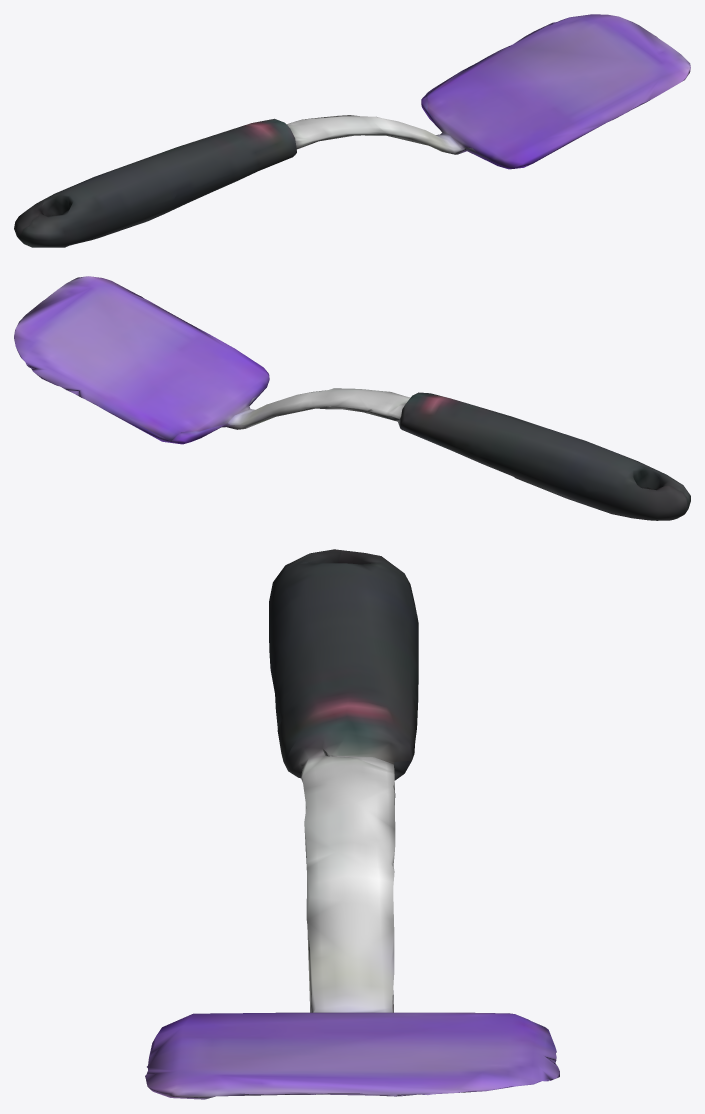
Rendered from OXO_Cookie_Spatula-medium.glb.
3 views of the same model, one above another, from view 1: azimuth 30°, elevation 25°; view 2: azimuth 150°, elevation 25°; view 3: azimuth 270°, elevation 25° (orthographic). The views are drawn at different scales.
Visible parts, largest first — view 1: OXO_Cookie_Spatula; view 2: OXO_Cookie_Spatula; view 3: OXO_Cookie_Spatula.
Boxes of the visible parts, x1,y1,x2,y2 form: OXO_Cookie_Spatula: (14,14,690,247); OXO_Cookie_Spatula: (14,276,690,520); OXO_Cookie_Spatula: (145,549,559,1099).
Bounding box in the file's own units: 0.24 × 0.0247 × 0.0678.
1 material, 1 textured.
